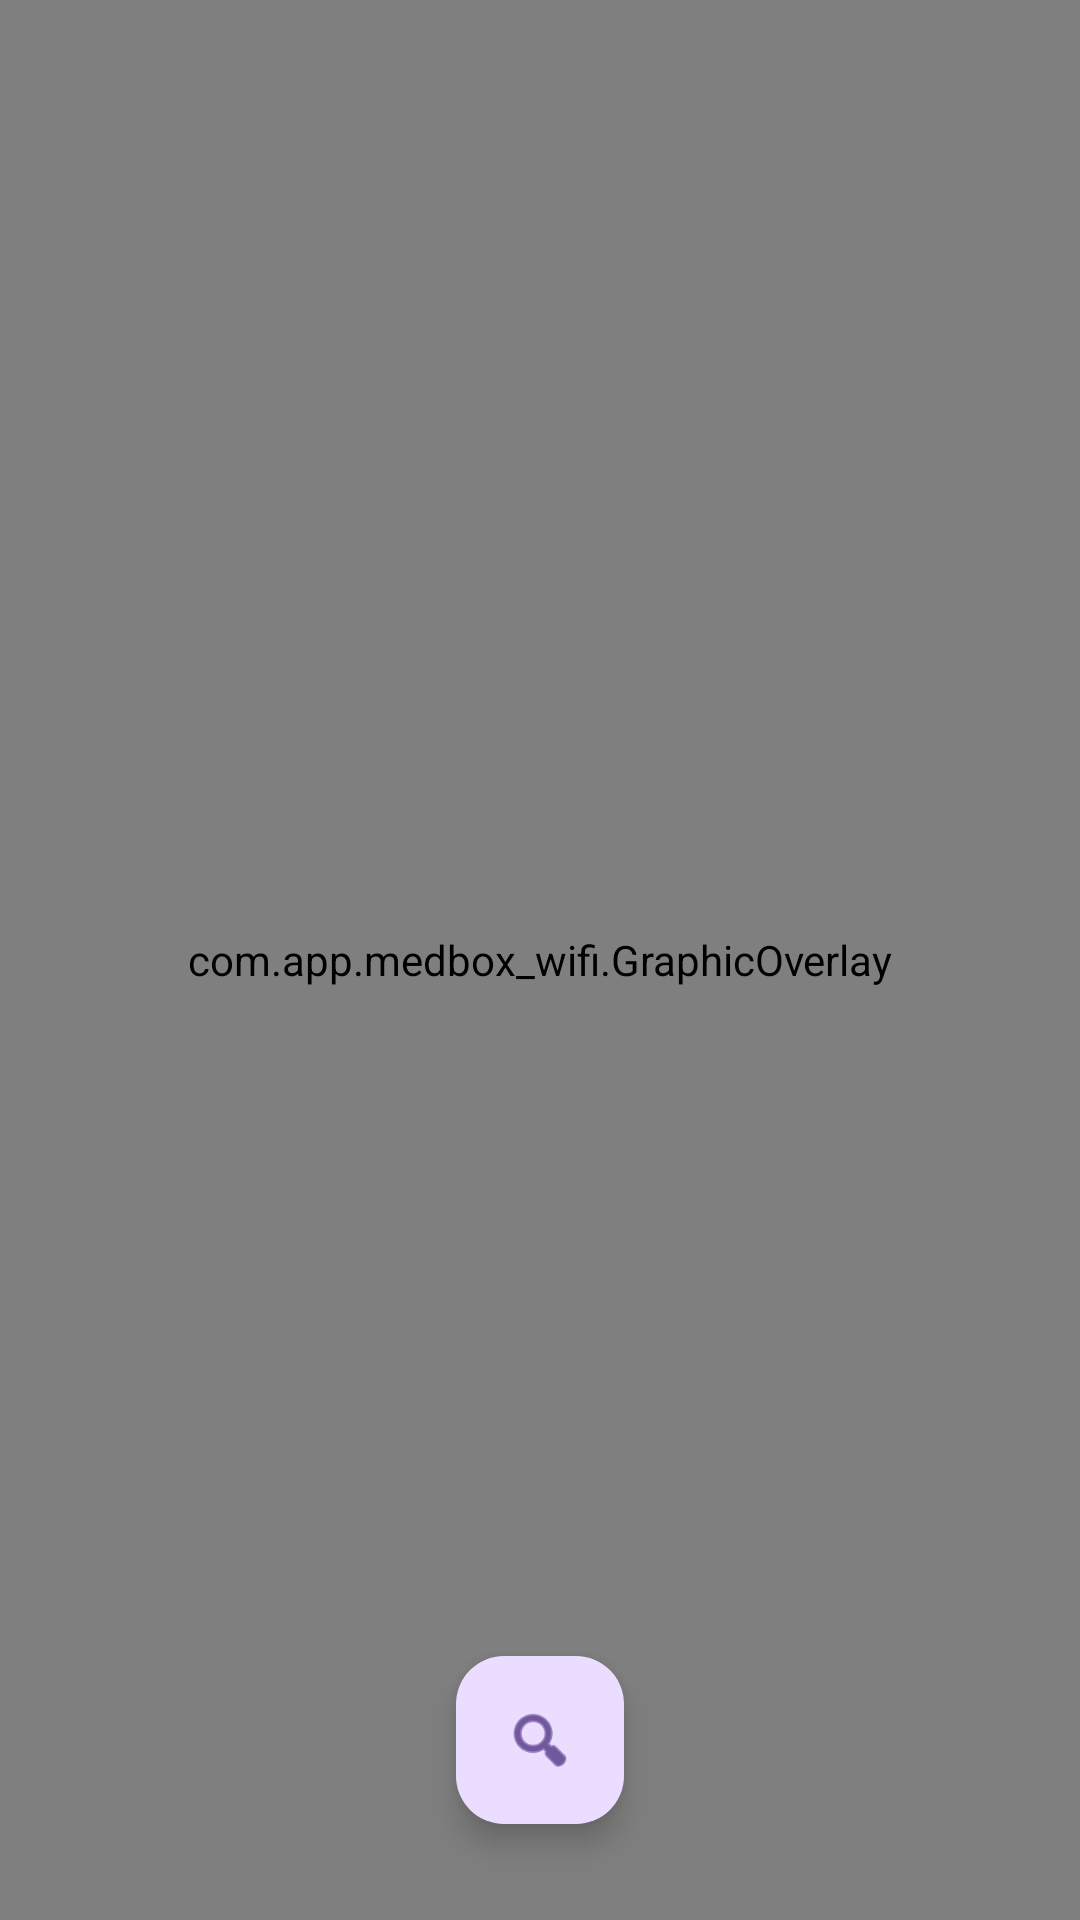

Where to tap for icons on this 1080px×1920px app screen, as (x,y):
Search: (540,1740)
